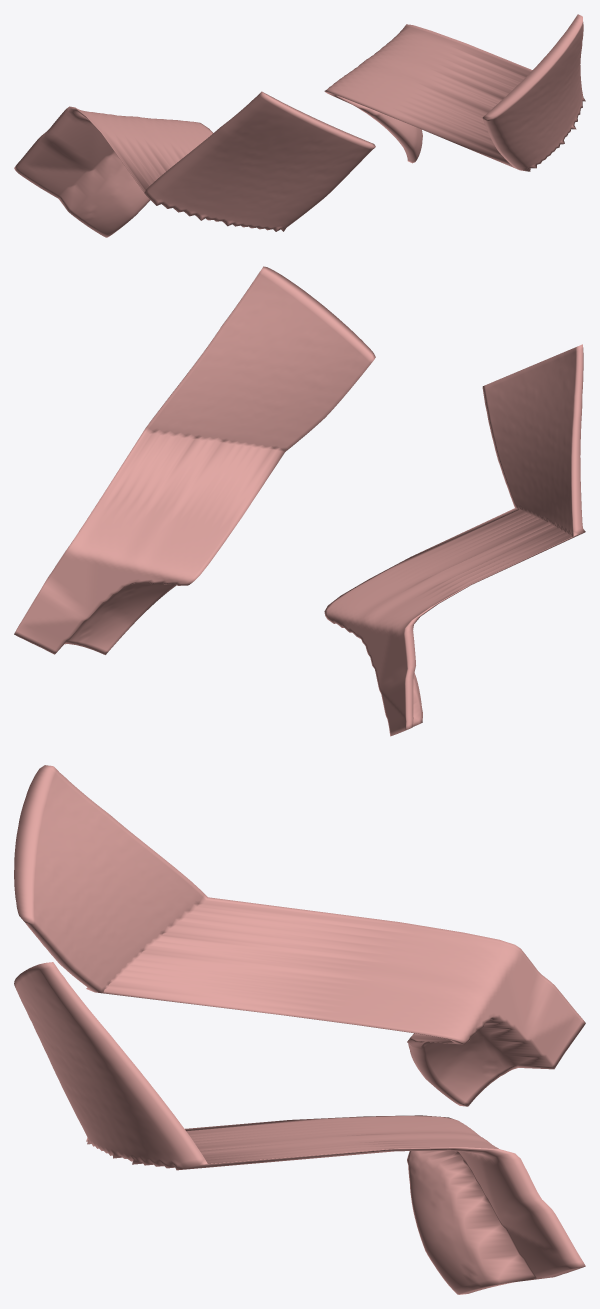
Rendered from depressor_labii_inferioris.glb.
3 views of the same model, one above another, from view 1: azimuth 30°, elevation 25°; view 2: azimuth 150°, elevation 25°; view 3: azimuth 270°, elevation 25° (orthographic). The views are drawn at different scales.
Visible parts, largest first — view 1: depressor_labii_inferioris_R, depressor_labii_inferioris_L; view 2: depressor_labii_inferioris_L, depressor_labii_inferioris_R; view 3: depressor_labii_inferioris_R, depressor_labii_inferioris_L.
Part boxes in pixels (x1,y1,x2,y2): depressor_labii_inferioris_R: (14, 91, 375, 237); depressor_labii_inferioris_L: (324, 14, 585, 171); depressor_labii_inferioris_L: (14, 266, 375, 654); depressor_labii_inferioris_R: (324, 344, 585, 736); depressor_labii_inferioris_R: (14, 765, 585, 1106); depressor_labii_inferioris_L: (14, 962, 585, 1294).
Bounding box in the file's own units: 0.0362 × 0.0211 × 0.0325.
